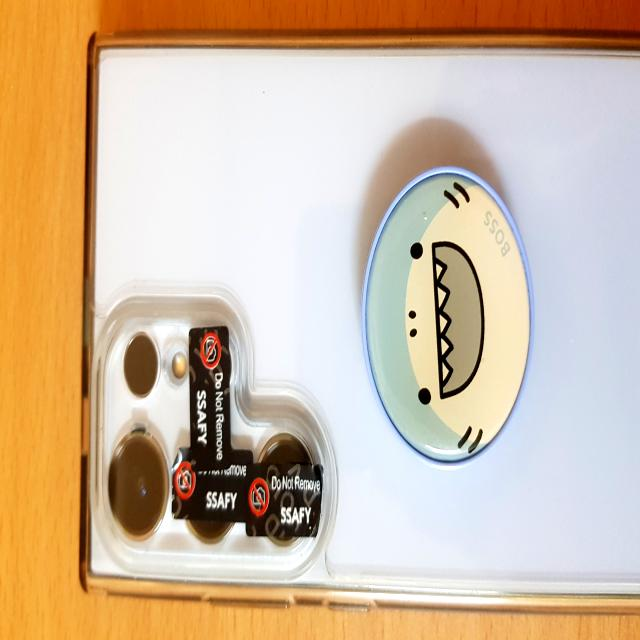phone: (82, 29, 640, 619)
removed_sticker: (246, 462, 323, 534), (189, 328, 232, 406)
sticker: (173, 449, 250, 521)
